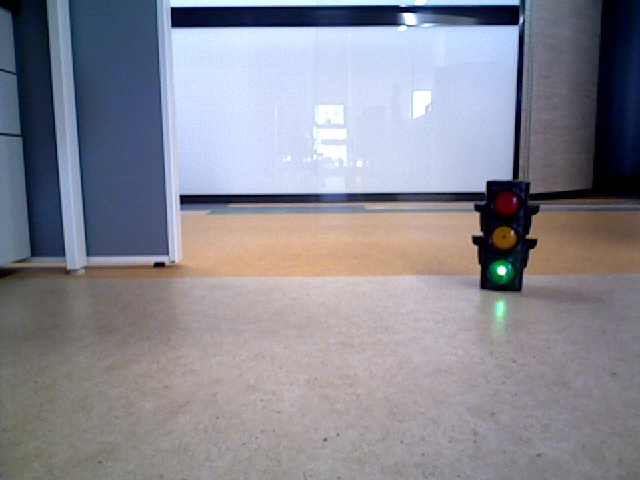green: (483, 182, 516, 284)
